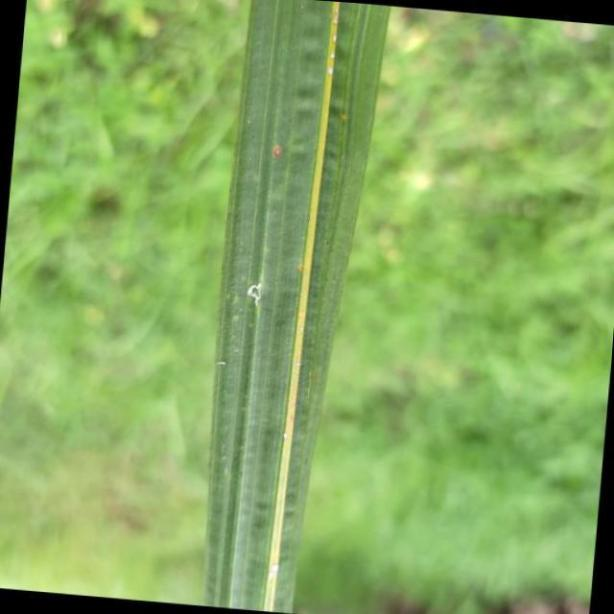Boron: (202, 0, 389, 610)
